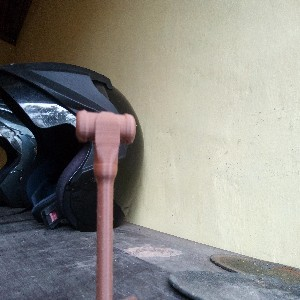palu: (76, 109, 136, 300)
